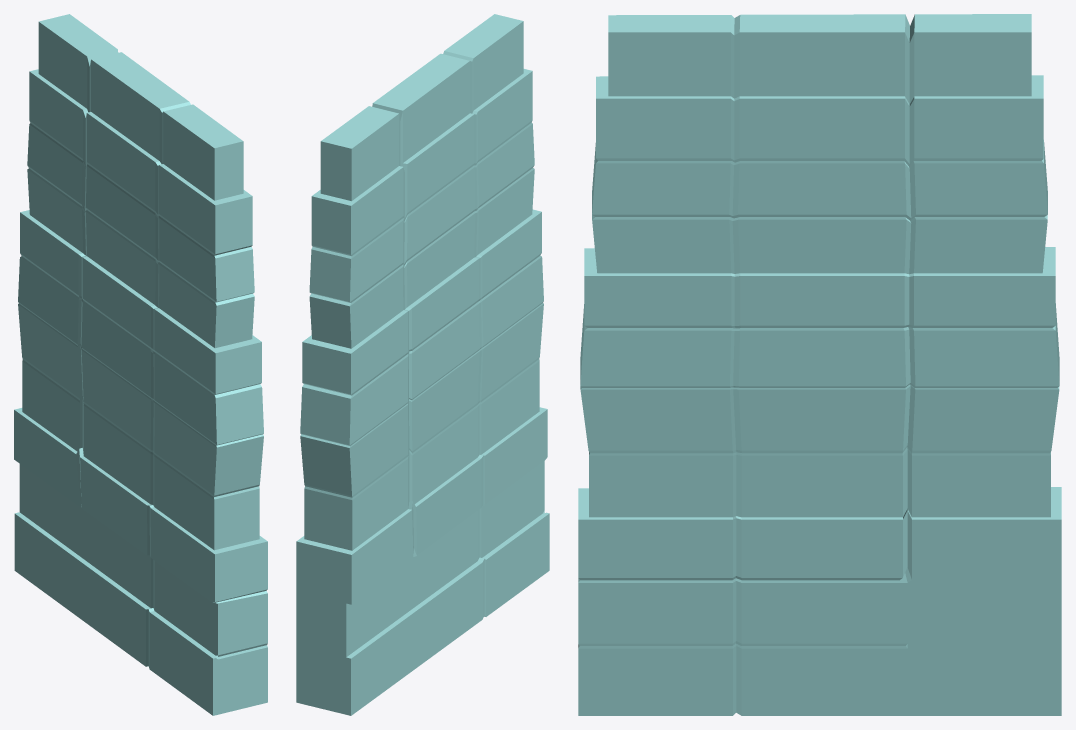
Rendered from Ice_wall.fbx.
3 renders of one model, left to right at view 1: azimuth 30°, elevation 25°; view 2: azimuth 150°, elevation 25°; view 3: azimuth 270°, elevation 25°, orthographic. The views are drawn at different scales.
Visible parts, largest first — view 1: Ice wall; view 2: Ice wall; view 3: Ice wall.
Boxes of the visible parts, left/top/right/bottom form: Ice wall: left=14, top=14, right=267, bottom=715; Ice wall: left=296, top=14, right=549, bottom=715; Ice wall: left=578, top=14, right=1061, bottom=715.
Size of the model in its own units: 50.46 by 484 by 314.
